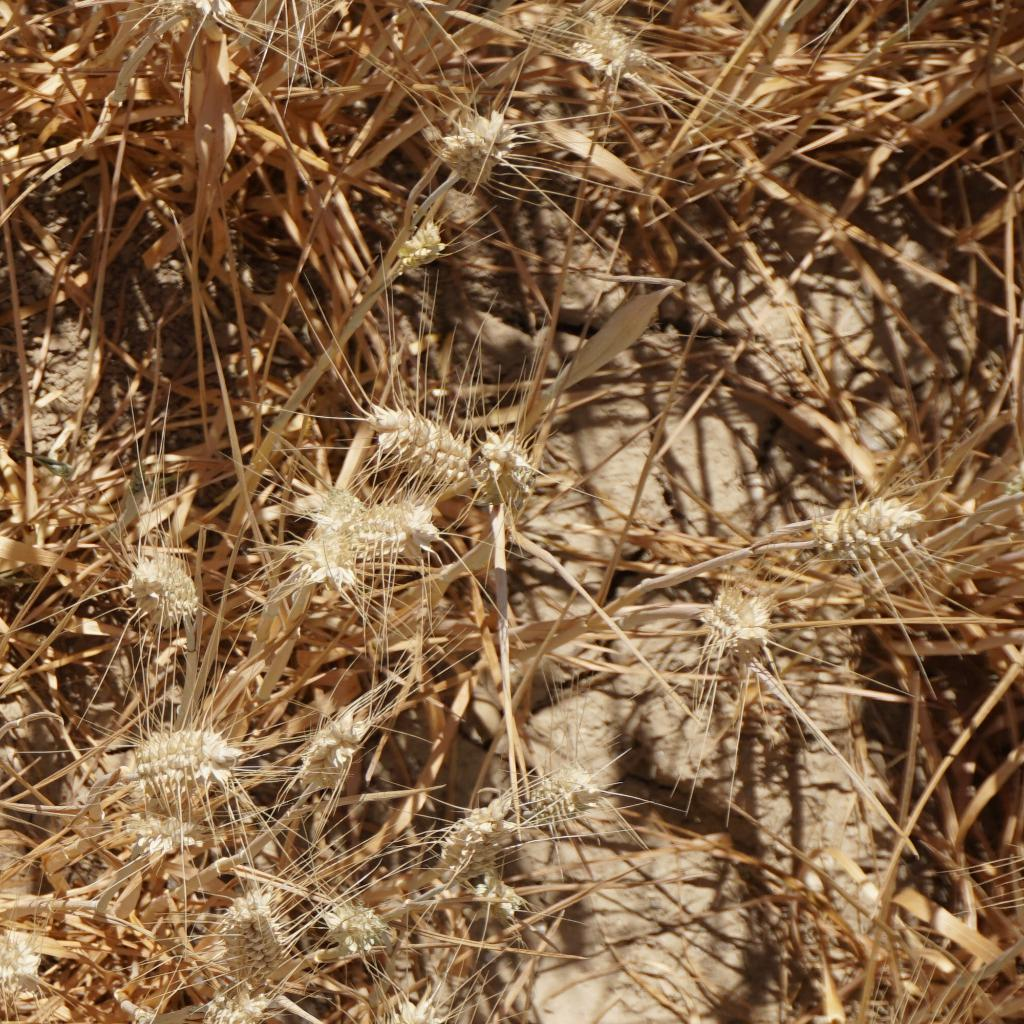0-0: (807, 486, 929, 572), (419, 102, 537, 186), (685, 551, 785, 647), (116, 535, 210, 632), (210, 888, 295, 990), (366, 403, 476, 480), (342, 496, 451, 570), (114, 763, 244, 825), (120, 716, 236, 775), (435, 797, 519, 874), (514, 761, 600, 835), (561, 11, 644, 84), (152, 0, 258, 57), (316, 889, 393, 961), (287, 500, 356, 577), (468, 423, 529, 509), (297, 714, 358, 799), (464, 876, 543, 933), (360, 984, 460, 1024), (0, 921, 43, 1004), (198, 984, 279, 1024), (395, 206, 444, 263)
